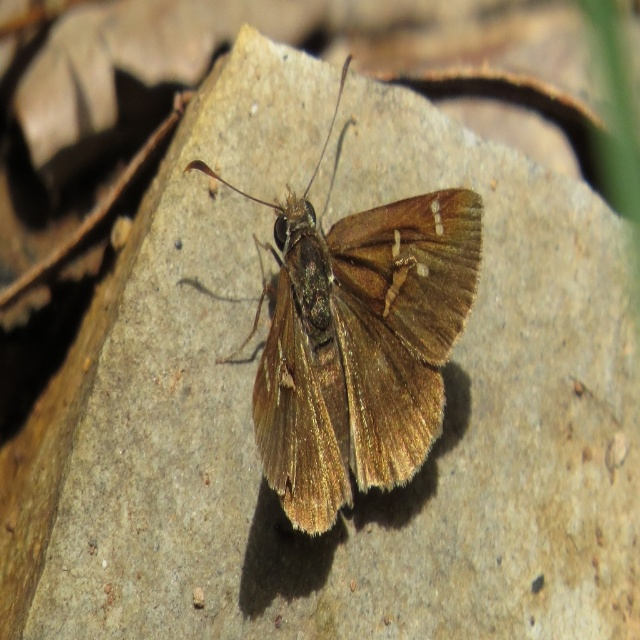Butterfly: (179, 55, 484, 538)
